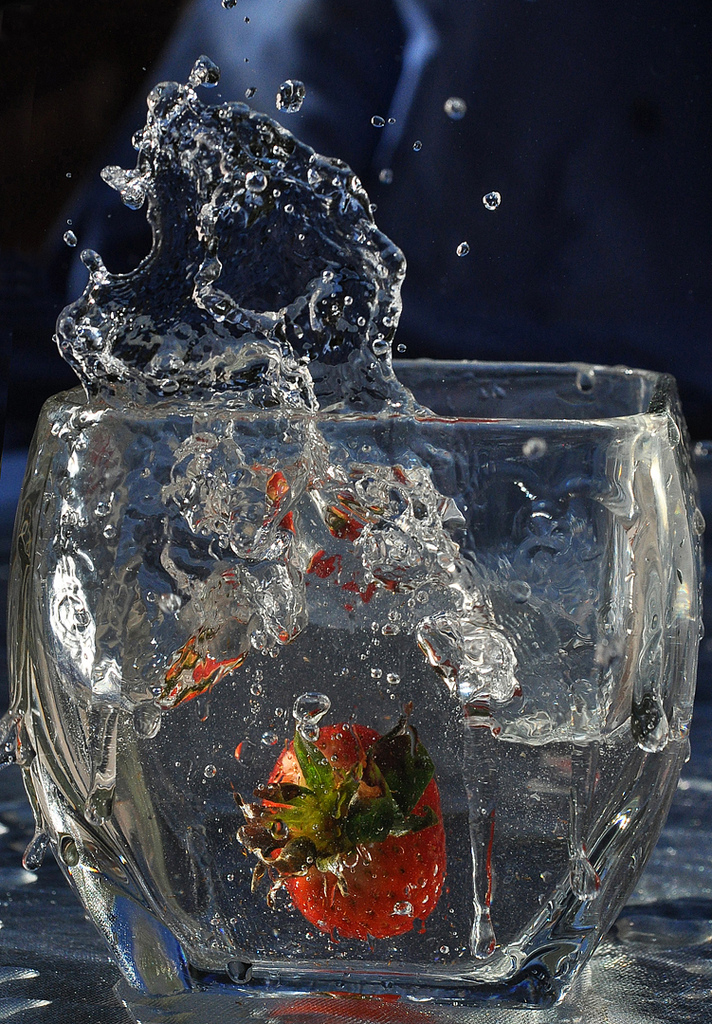glass of water: (37, 204, 681, 999)
